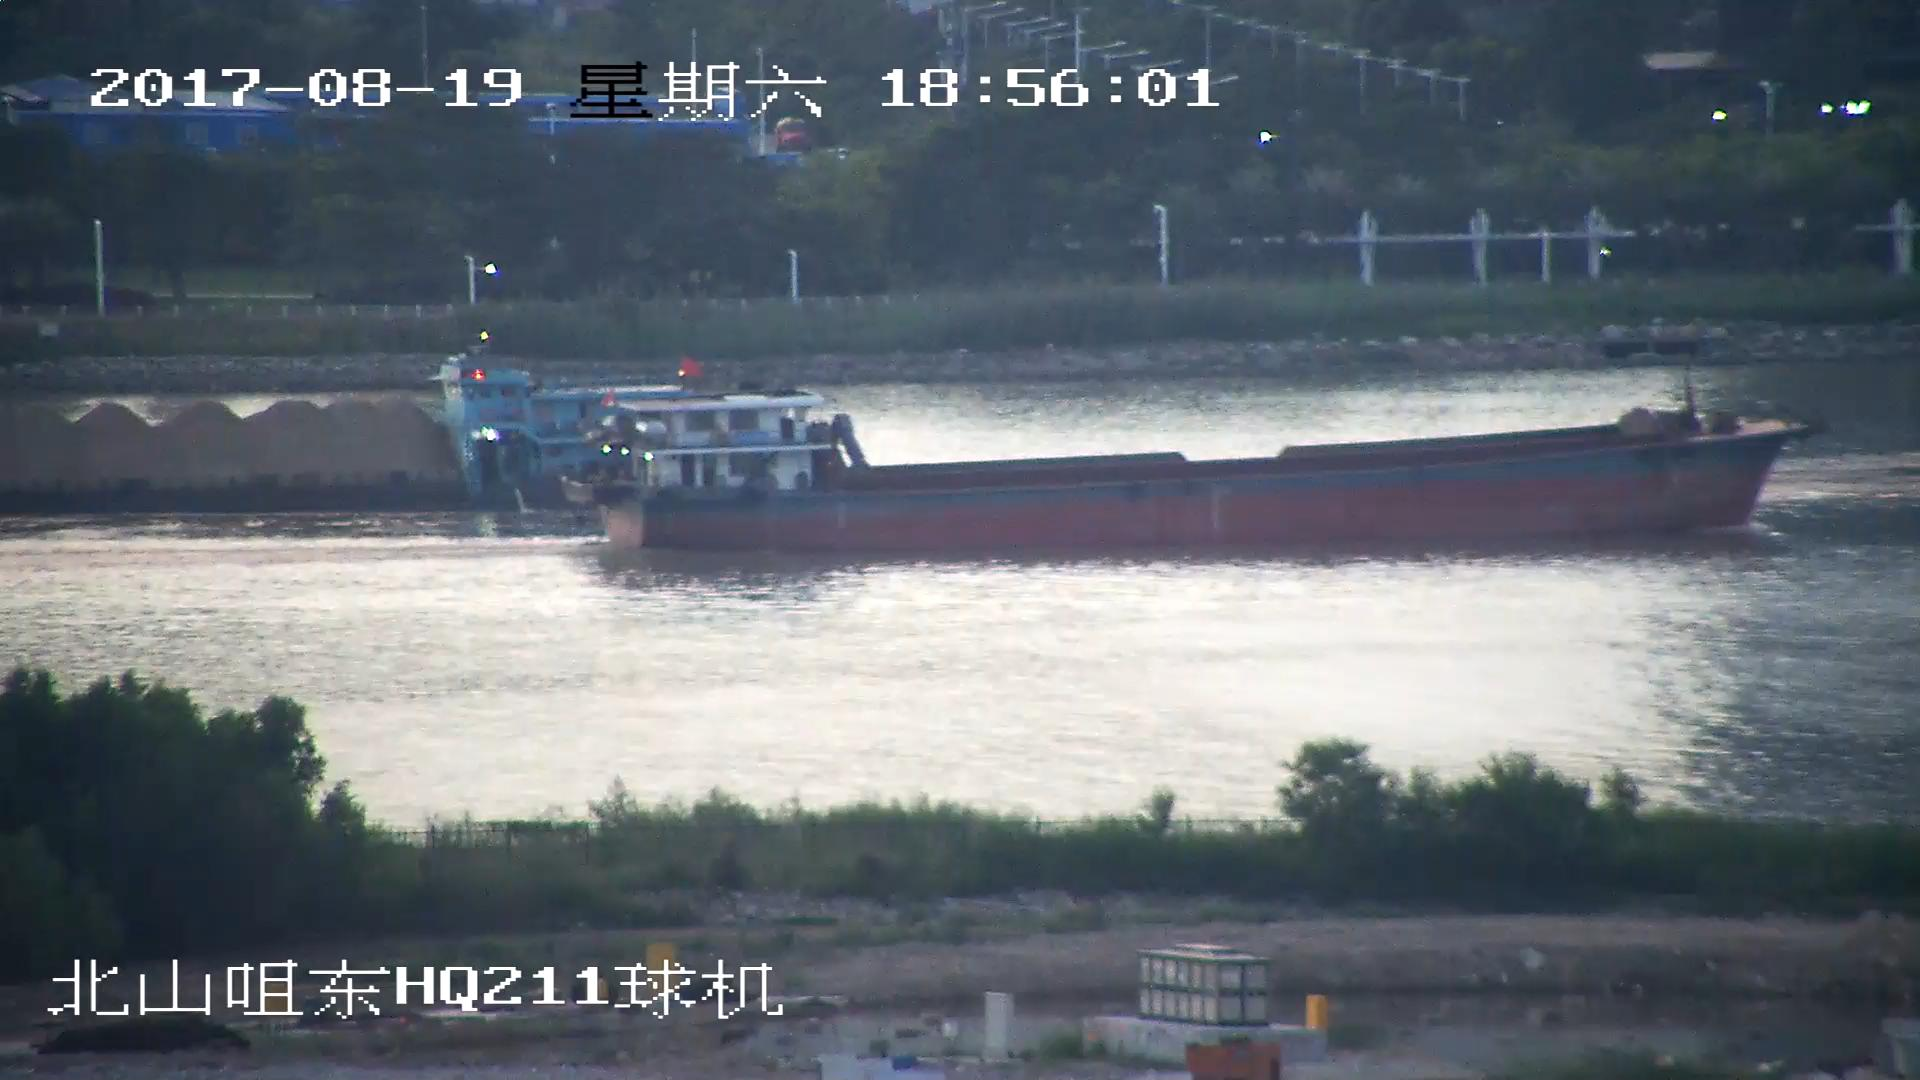bulk cargo carrier: (578, 384, 1810, 557)
ore carrier: (1, 362, 574, 510)
